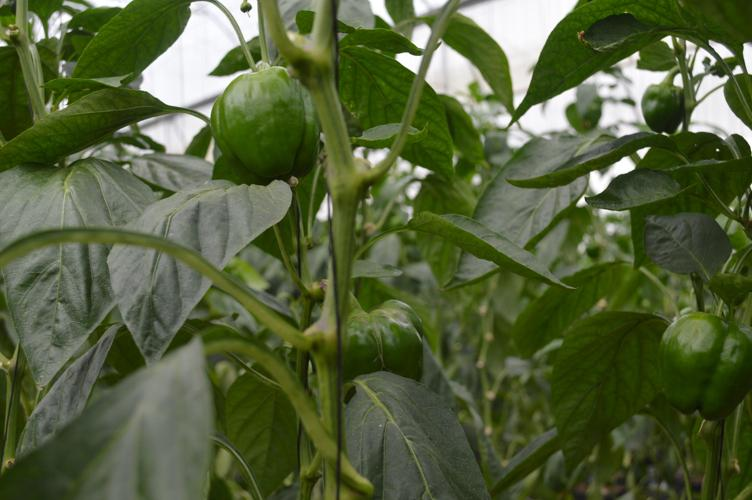BellPepper: (207, 67, 323, 187), (659, 296, 752, 429), (329, 305, 435, 386), (637, 75, 687, 142)
